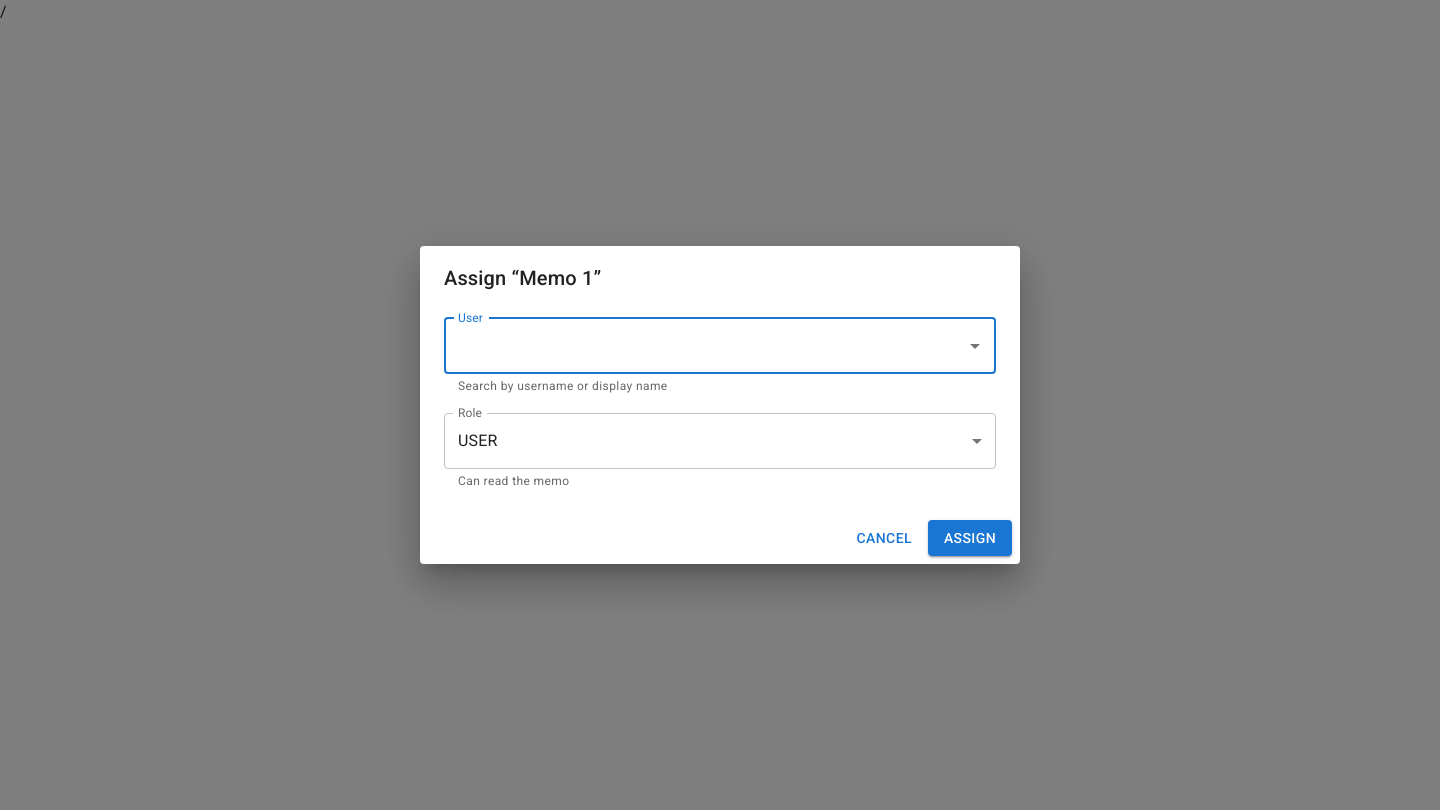
Test case: AssignMemoDialog › clears the user error once a user is chosen
Click the button "Assign" at (970, 538), box [928,520,1012,556]
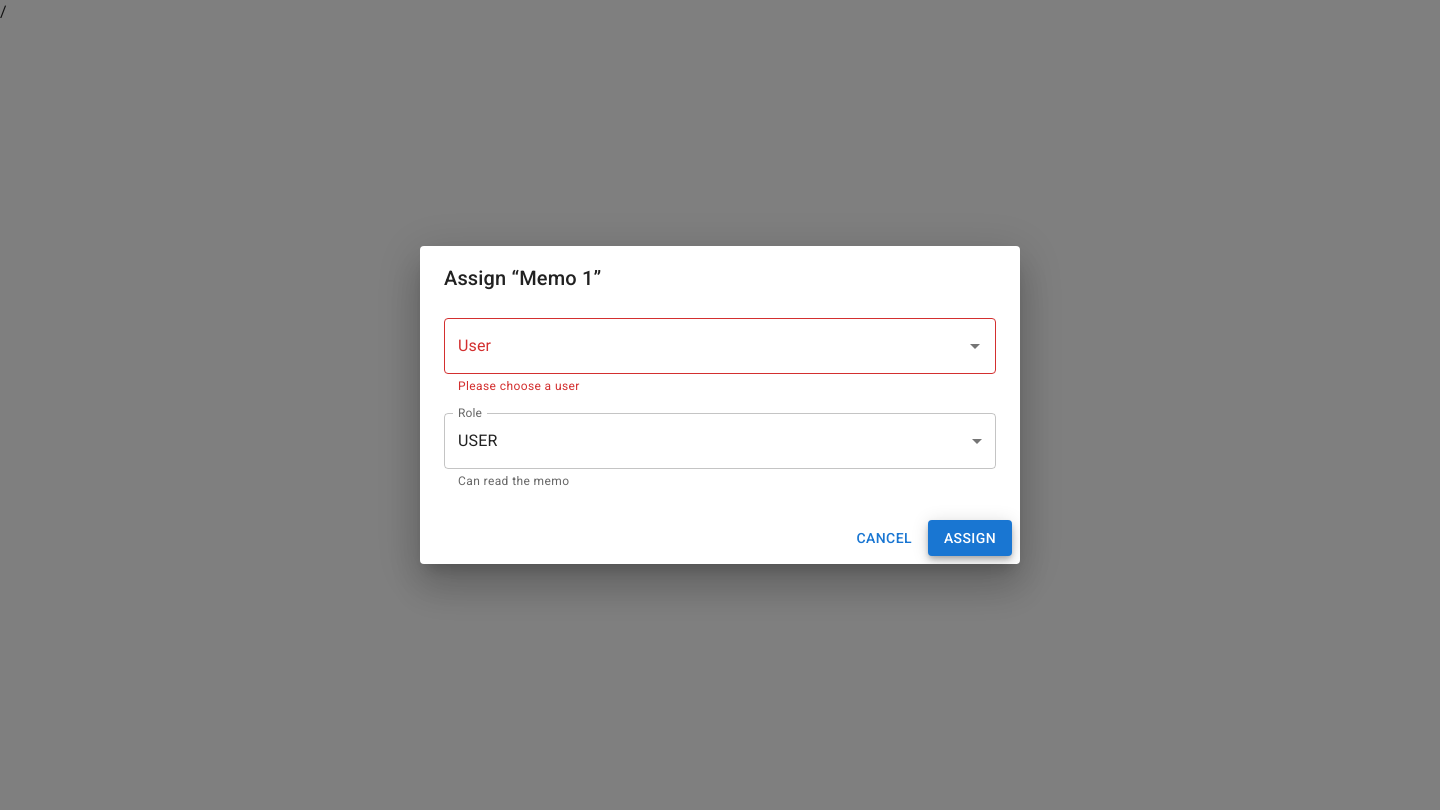
Type "bob" into the dropdown labelled "User" at (705, 346), box [453,327,957,365]
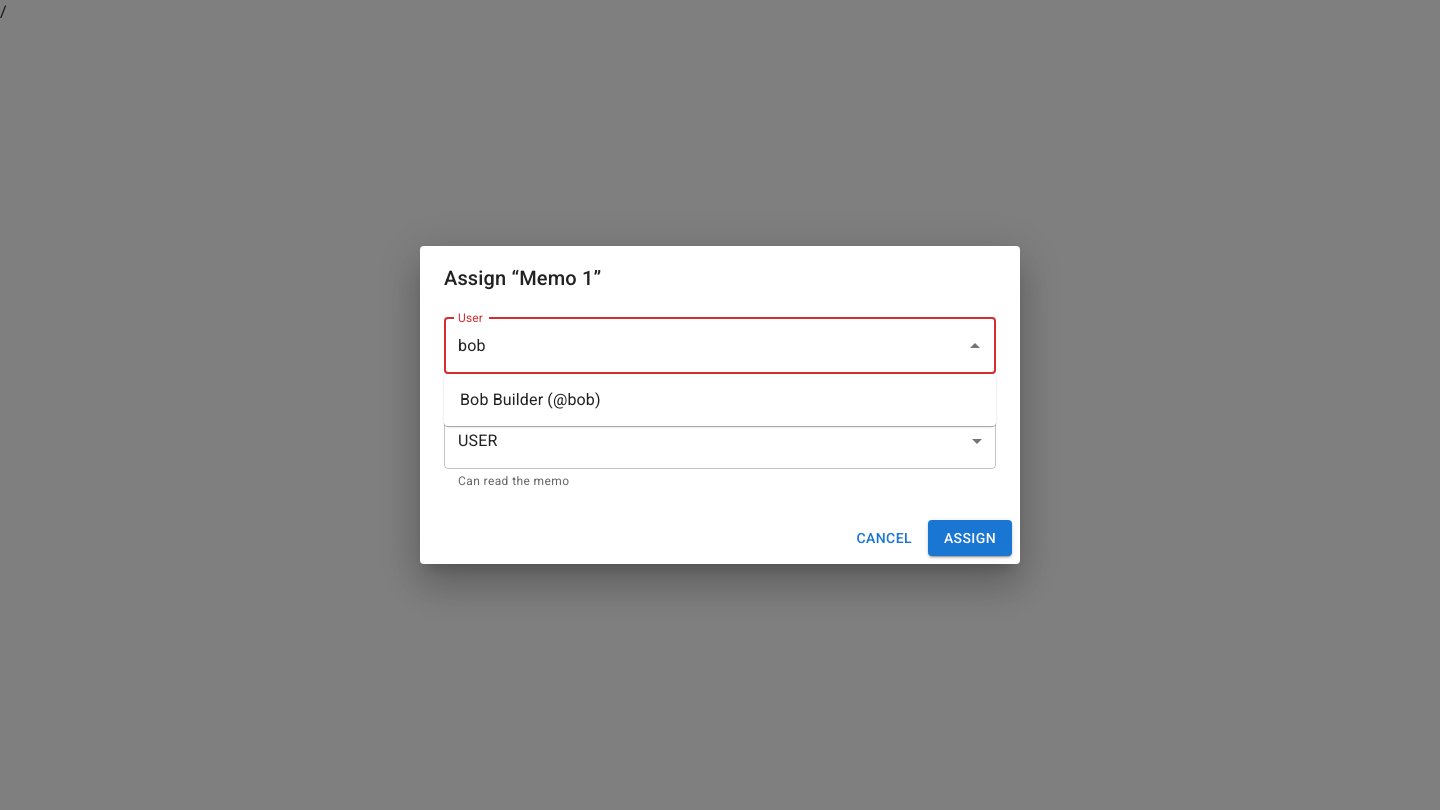
Click the option "Bob Builder (@bob)" at (530, 400), box [460,390,601,409]
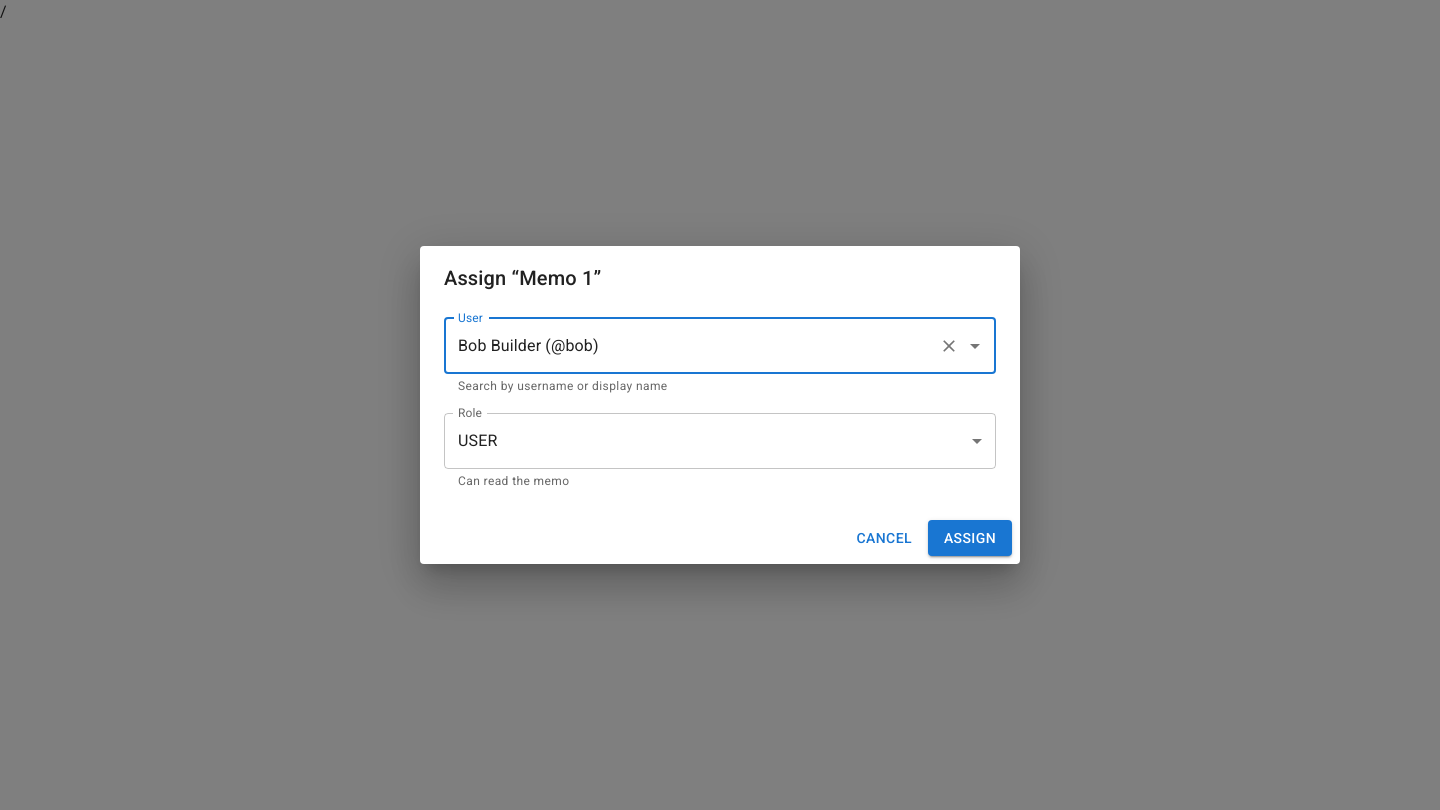
Check: the text "Please choose a user" is gone
